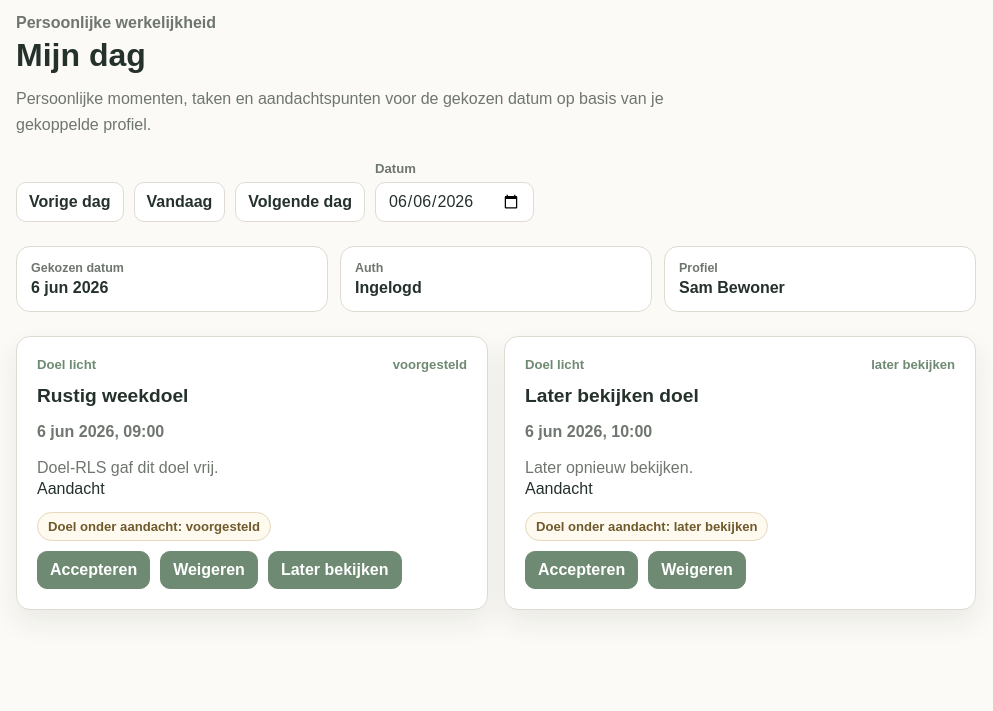
Test: Mijn dag overzicht › toont doelacceptatie-acties alleen bij toegestane doel-attenties voor eigen profiel
Expected: the text "Doel onder aandacht: voorgesteld" is shown, [37, 512, 271, 541]
Expected: the text "Doel onder aandacht: later bekijken" is shown, [525, 512, 768, 541]
Click the button "Accepteren" below ": voorgesteld": {"x": 94, "y": 570} [37, 551, 150, 589]
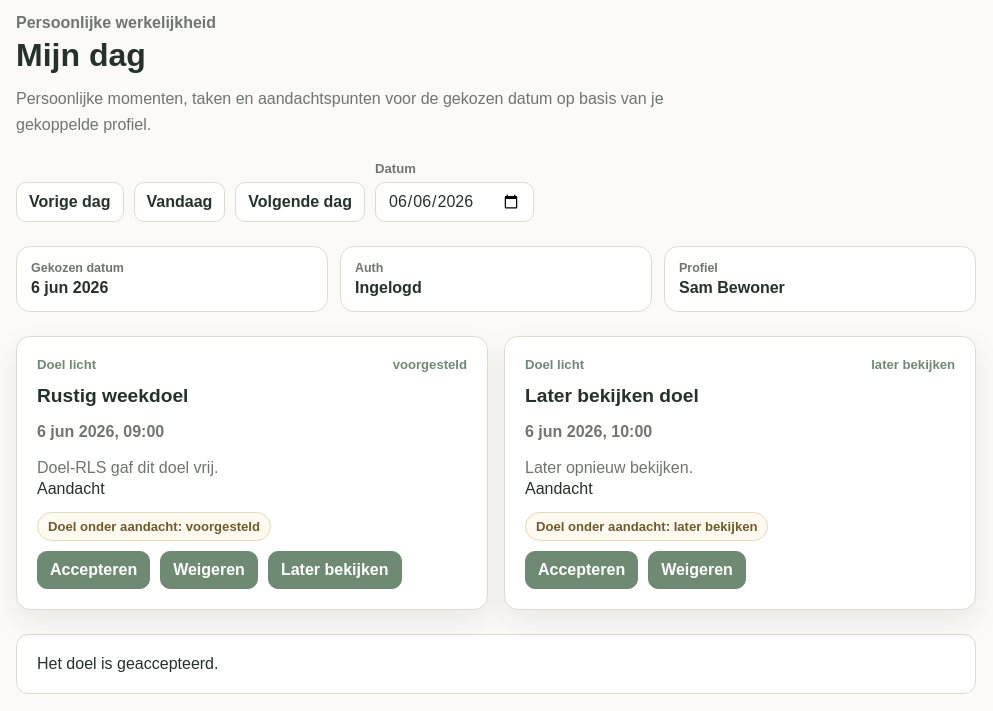
Expected: the text "Het doel is geaccepteerd." is shown, [16, 634, 976, 694]
